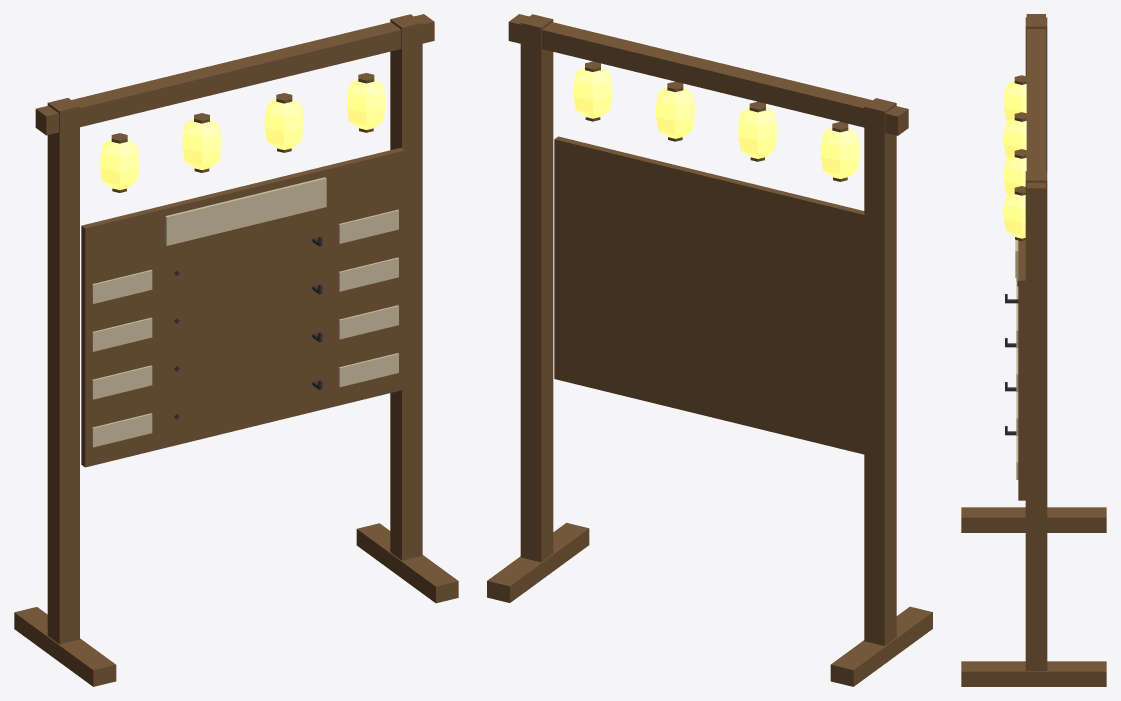
The model's file is Prop_YTM_LanternBoard_LOD1.glb.
3 renders of one model, left to right at view 1: azimuth 30°, elevation 25°; view 2: azimuth 150°, elevation 25°; view 3: azimuth 270°, elevation 25°, orthographic. The views are drawn at different scales.
Visible parts, largest first — view 1: Prop_YTM_LanternBoard, Prop_YTM_LanternBoard_Lanterns; view 2: Prop_YTM_LanternBoard, Prop_YTM_LanternBoard_Lanterns; view 3: Prop_YTM_LanternBoard, Prop_YTM_LanternBoard_Lanterns.
Part boxes in pixels (x1=…): Prop_YTM_LanternBoard: x1=14, y1=14, x2=458, y2=686; Prop_YTM_LanternBoard_Lanterns: x1=100, y1=73, x2=385, y2=192; Prop_YTM_LanternBoard: x1=487, y1=14, x2=932, y2=686; Prop_YTM_LanternBoard_Lanterns: x1=573, y1=61, x2=859, y2=181; Prop_YTM_LanternBoard: x1=961, y1=14, x2=1106, y2=686; Prop_YTM_LanternBoard_Lanterns: x1=1004, y1=75, x2=1026, y2=241.
Bounding box in the file's own units: 1.7 × 2.3 × 0.6.
